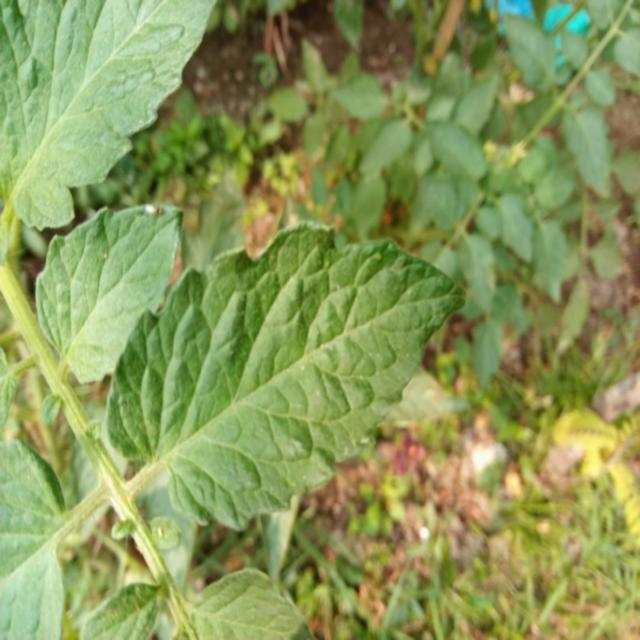Healthy: (63, 143, 490, 571), (0, 0, 214, 229), (10, 172, 192, 398)
